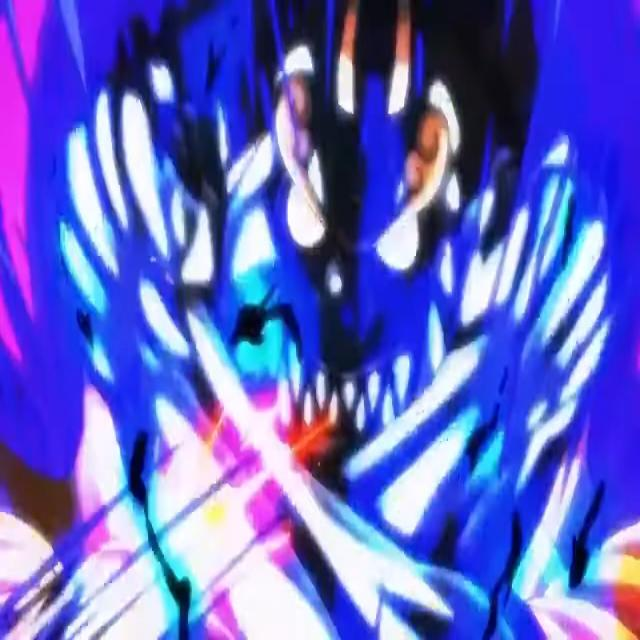Jinbe: (122, 14, 631, 640)
